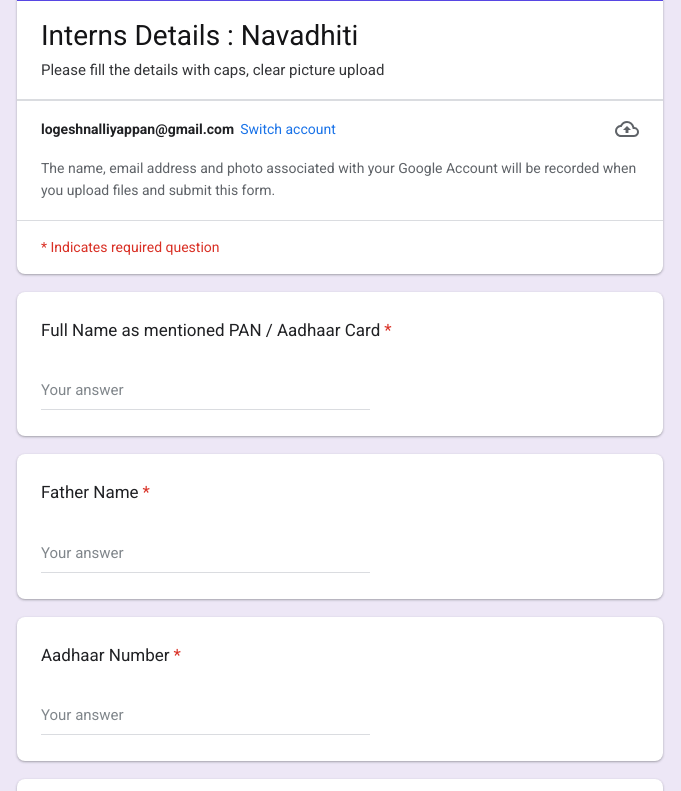
Test: GoogleForm Component › should clear all inputs when Clear Form button is clicked
Type "JOHN DOE" into the field labelled "Full Name as mentioned PAN / Aadhaar Card*".
click(205, 391); type("JOHN DOE")  # box [41,371,370,410]
(page scrolled)
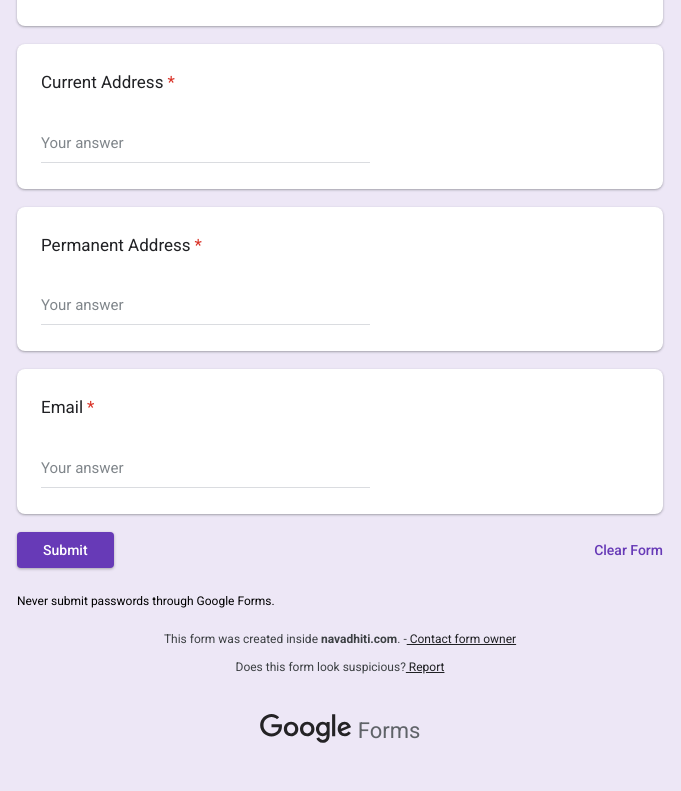
Click the button "Clear Form".
click(629, 550)  # box [594,534,663,566]
(page scrolled)
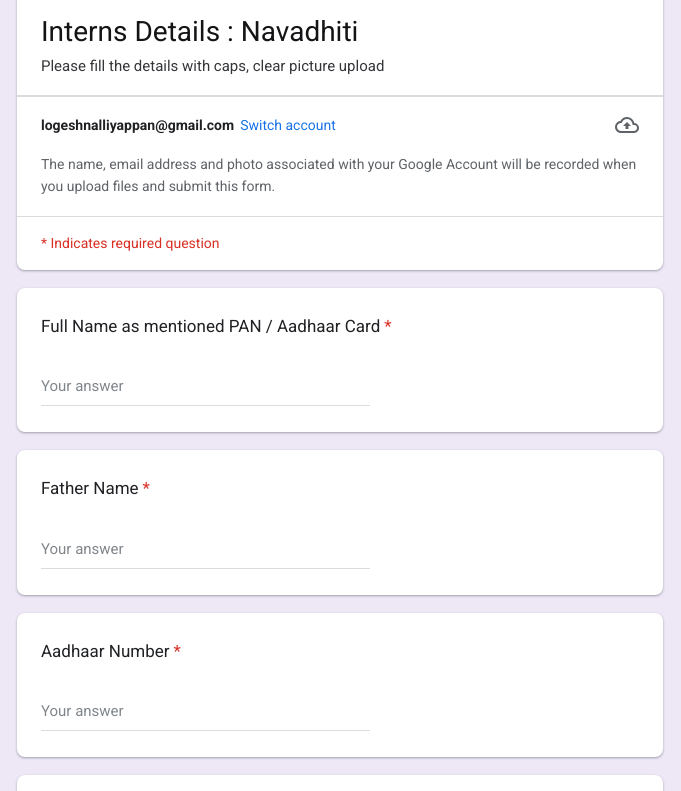
Result: the field labelled "Full Name as mentioned PAN / Aadhaar Card*" is empty at [41,367,370,406]
